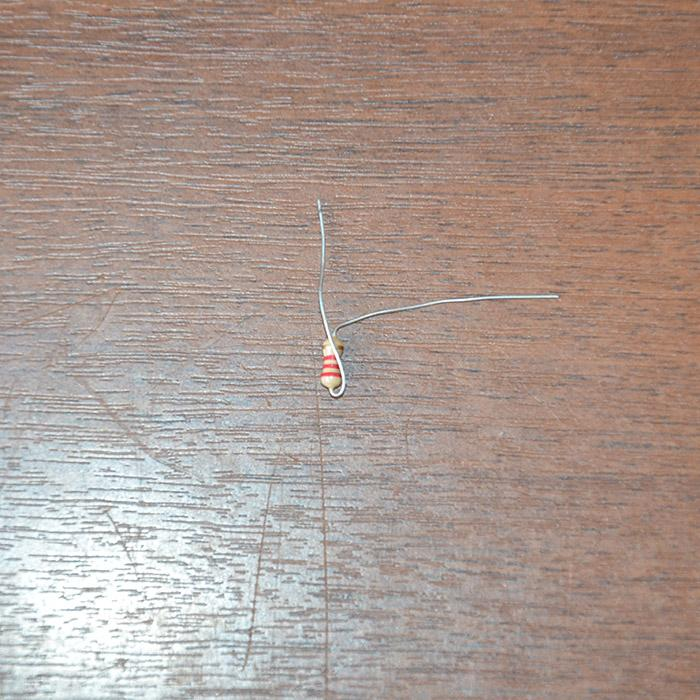resistor: (319, 334, 343, 391)
